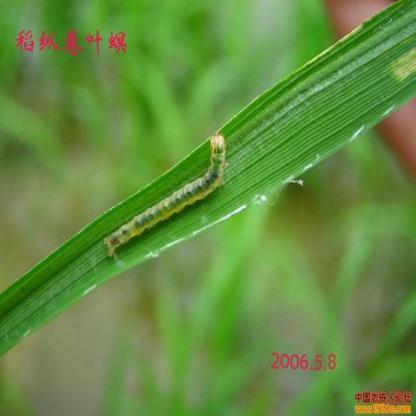leaf-folder: (99, 122, 240, 260)
